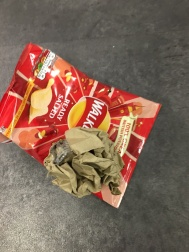paper_brown: (34, 121, 138, 204)
